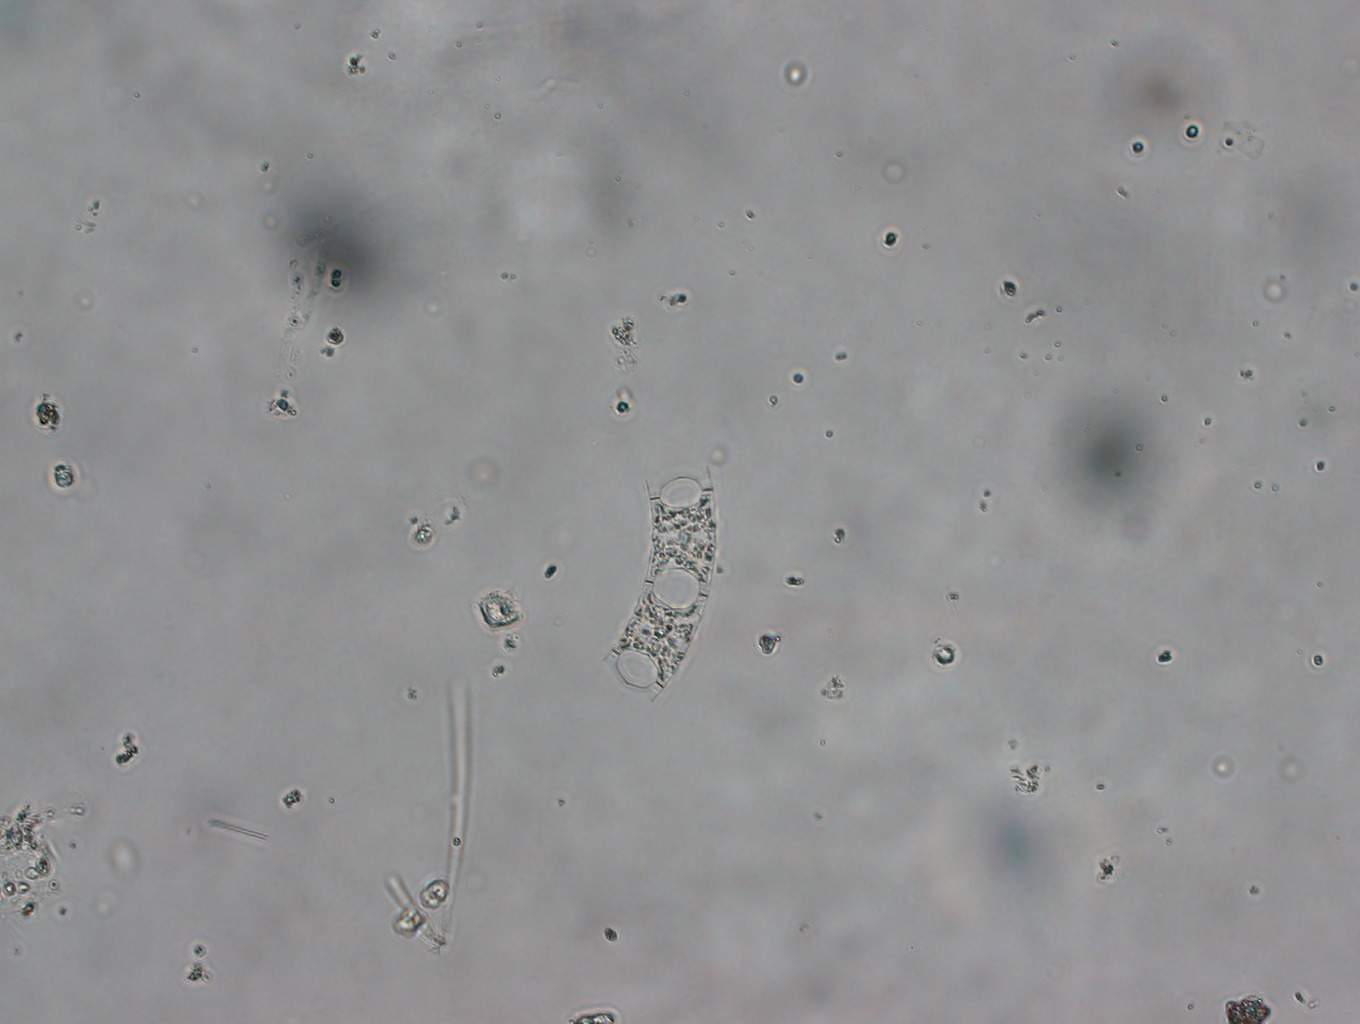eucampia: (591, 456, 729, 701)
